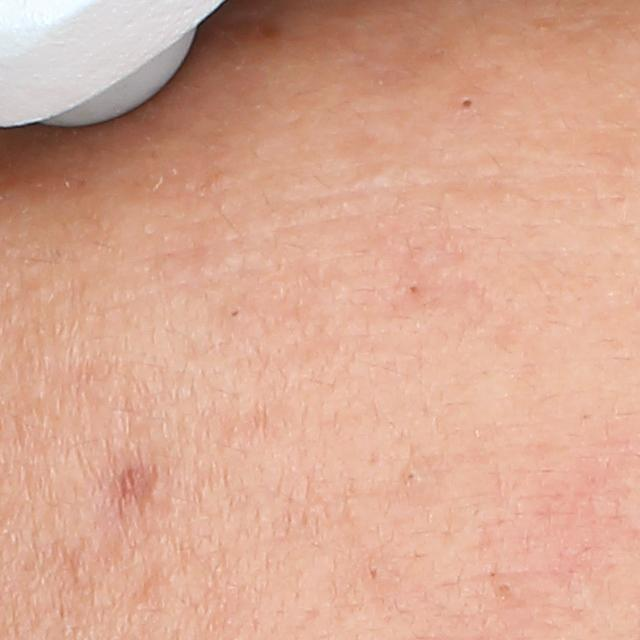comedo: (449, 92, 480, 117), (223, 303, 250, 329), (401, 280, 426, 305), (402, 466, 427, 490), (364, 561, 382, 587), (495, 580, 511, 595)
